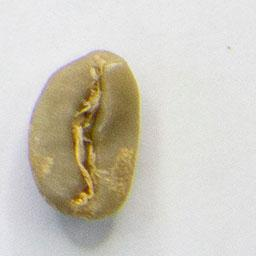longberry: (23, 43, 146, 225)
